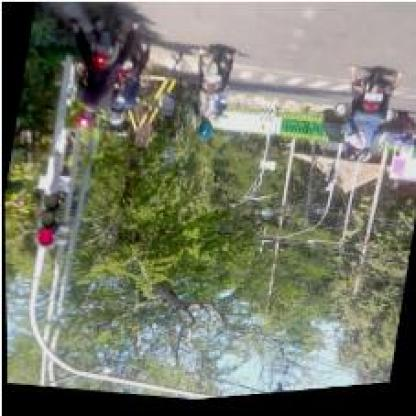red: (30, 190, 58, 247), (268, 391, 290, 397)
